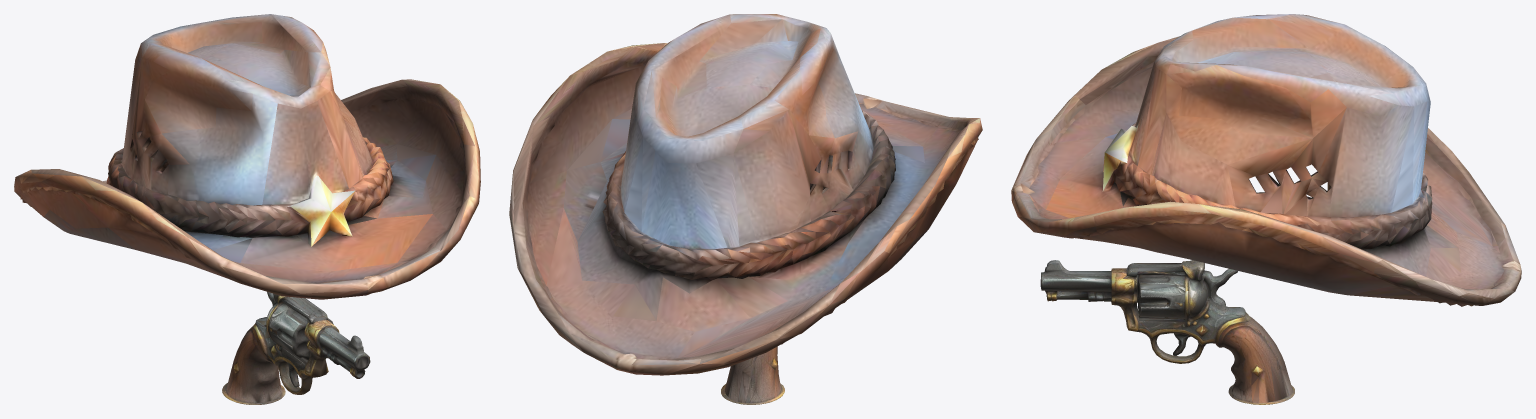
The model's file is cowboy-gear.glb.
3 renders of one model, left to right at view 1: azimuth 30°, elevation 25°; view 2: azimuth 150°, elevation 25°; view 3: azimuth 270°, elevation 25°, orthographic.
Parts seen in each view (by area): view 1: CowboyHat, CowboyGun; view 2: CowboyHat, CowboyGun; view 3: CowboyHat, CowboyGun.
Part boxes in pixels (x1=…): CowboyHat: x1=14, y1=14, x2=480, y2=299; CowboyGun: x1=222, y1=292, x2=370, y2=404; CowboyHat: x1=509, y1=14, x2=982, y2=375; CowboyGun: x1=721, y1=346, x2=784, y2=404; CowboyHat: x1=1011, y1=14, x2=1521, y2=306; CowboyGun: x1=1040, y1=260, x2=1294, y2=404.
Size of the model in its own units: 0.6 by 0.5219 by 0.6896.
Materials: 2 (2 with a texture image).
